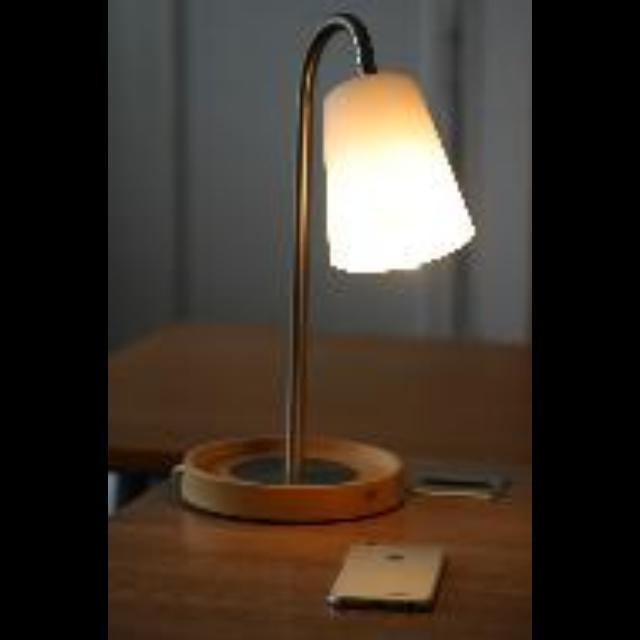phone: (309, 529, 460, 627)
